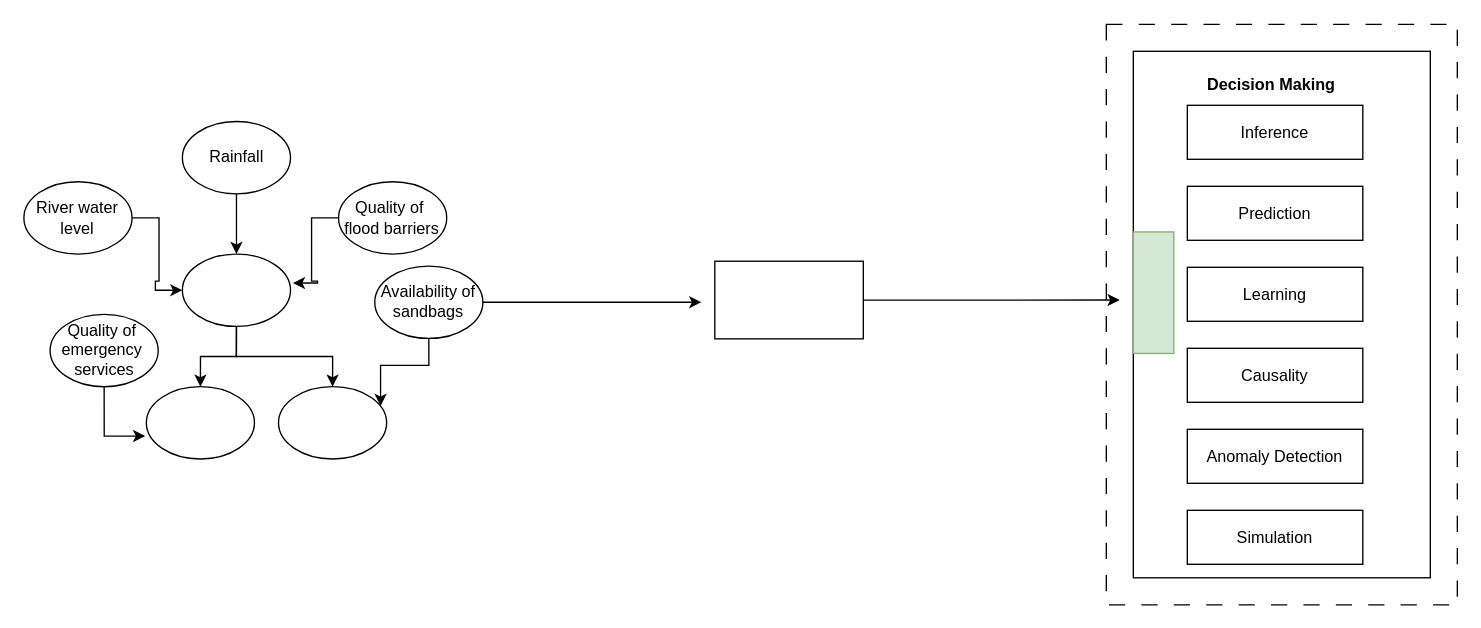
Some shapes in this 1481 by 628 pixel diagram are drawn without their labels. Each missing label, with the centre of its shape:
"BN model" belongs at [788,299].
"Flood" belongs at [236,289].
"Houses ruined" belongs at [332,422].
"People drown" belongs at [199,422].
"pyAgrum library" belongs at [1153,292].
